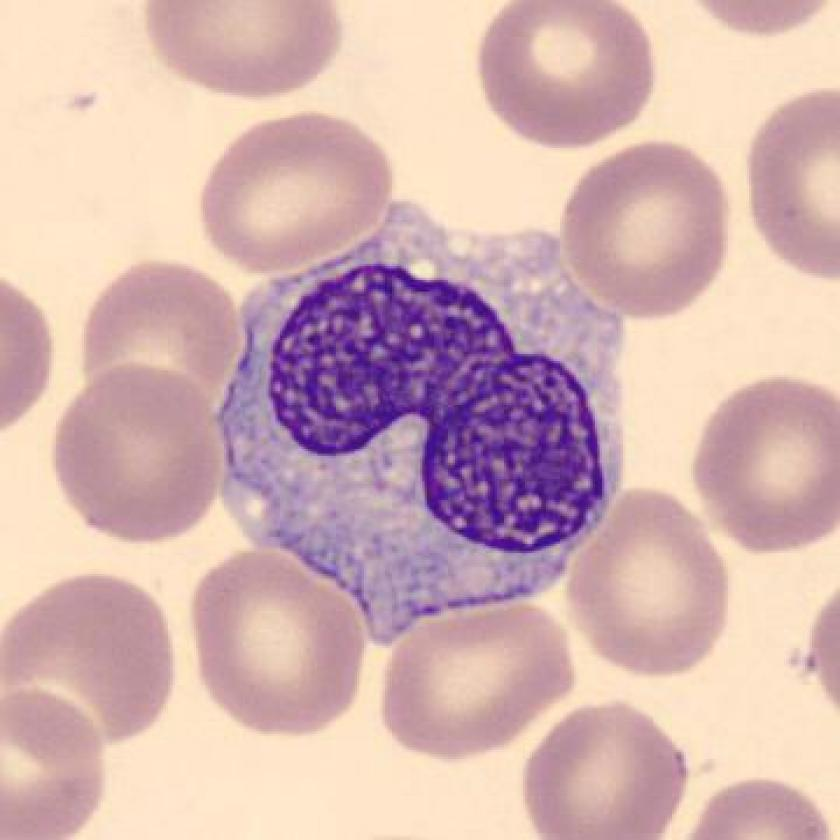monocyte: (195, 172, 650, 658)
